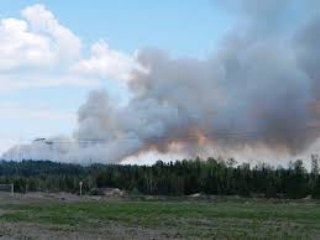smoke: (8, 39, 313, 178)
